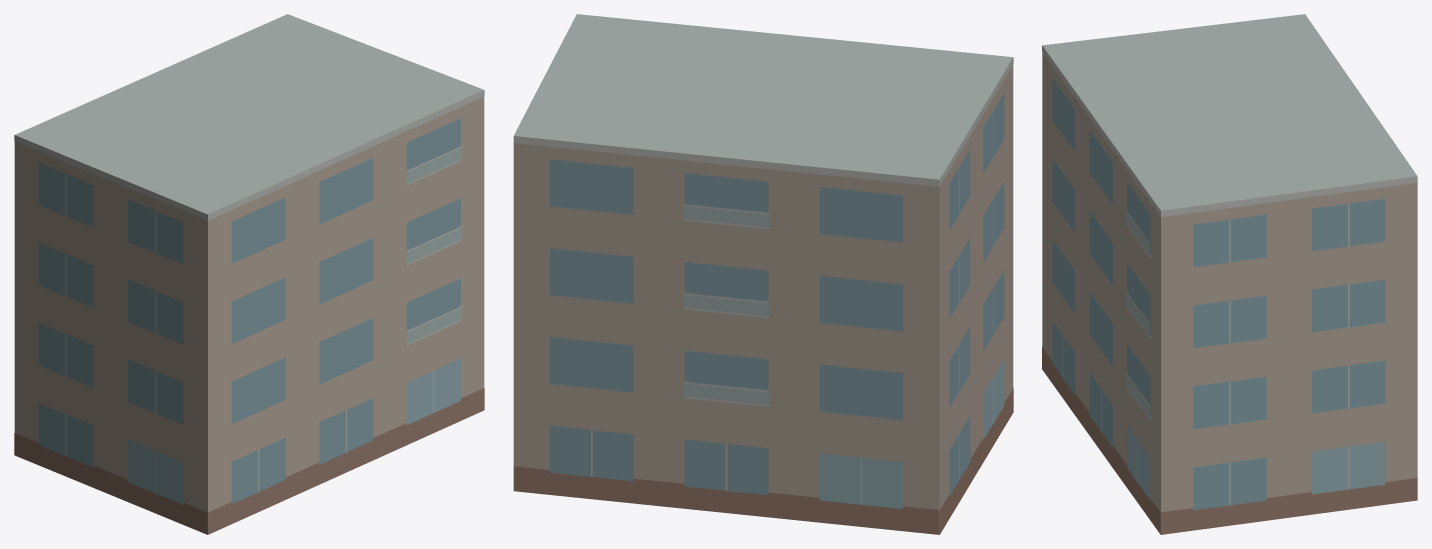
File: survey-upis-32836425.glb
The picture shows the model from 3 angles, left to right: view 1: azimuth 30°, elevation 25°; view 2: azimuth 150°, elevation 25°; view 3: azimuth 270°, elevation 25°; orthographic projection. The views are drawn at different scales.
Visible parts, largest first — view 1: survey-upis-32836425.tmp; view 2: survey-upis-32836425.tmp; view 3: survey-upis-32836425.tmp.
Boxes of the visible parts, x1,y1,x2,y2 form: survey-upis-32836425.tmp: (14, 14, 484, 534); survey-upis-32836425.tmp: (513, 14, 1013, 534); survey-upis-32836425.tmp: (1042, 14, 1417, 534).
Size of the model in its own units: 15.95 by 12.24 by 12.86.
